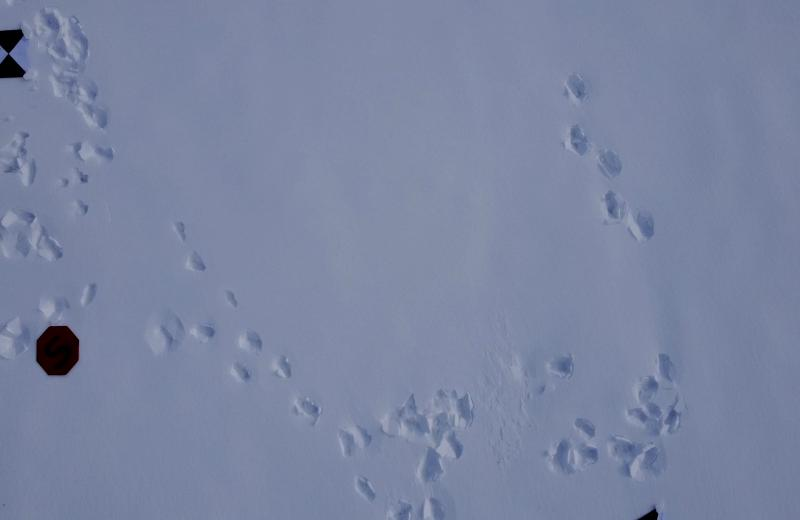Octagon: (35, 325, 81, 379)
